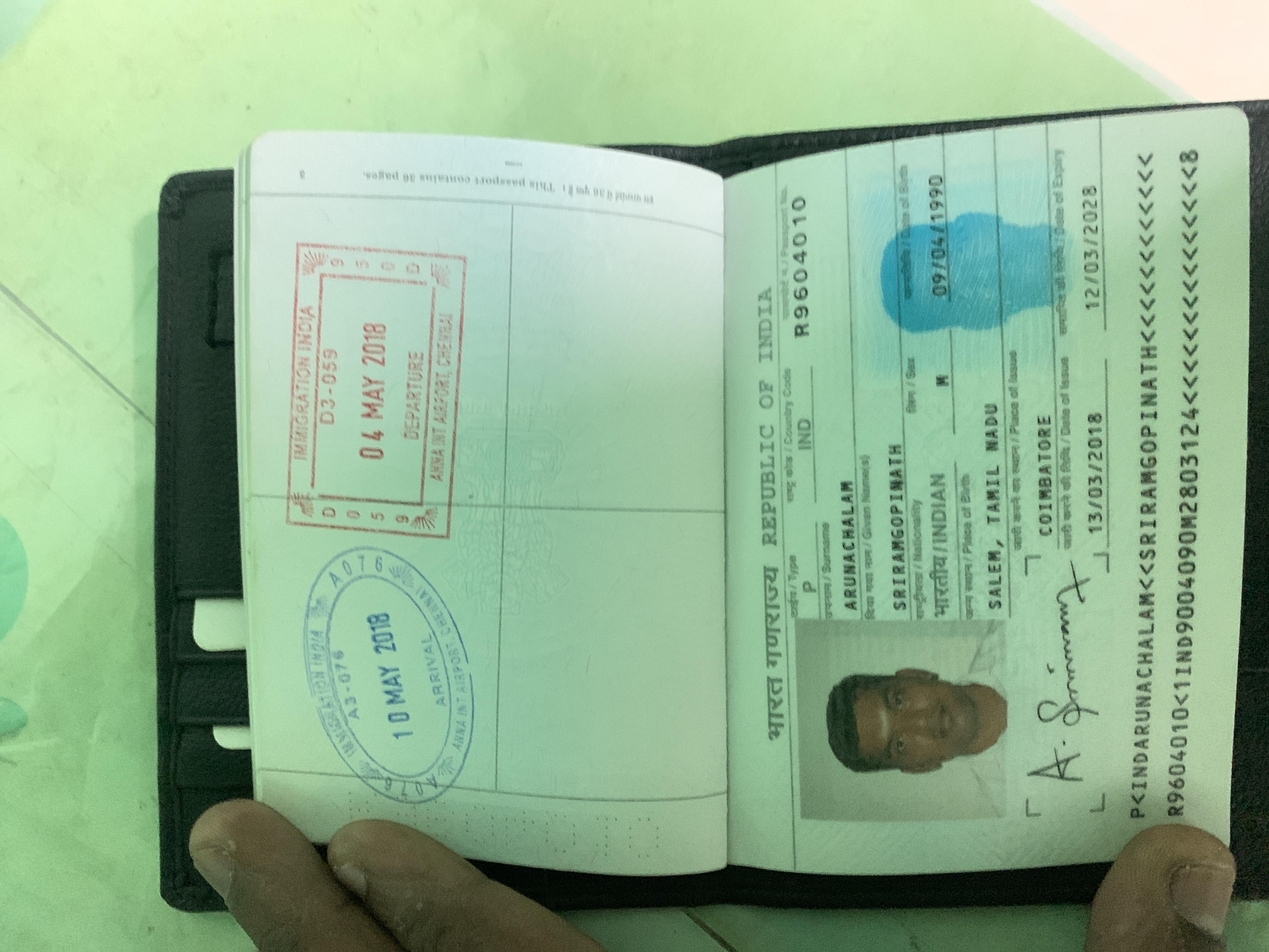DOB: (863, 690, 1050, 714)
Surname: (450, 627, 653, 644)
country_code: (659, 595, 720, 615)
date_of_expiry: (845, 804, 1043, 835)
date_of_issue: (546, 808, 761, 838)
details: (164, 839, 1086, 909)
name: (451, 665, 689, 681)
nationality: (448, 695, 651, 716)
passport_no: (805, 591, 1013, 610)
photo: (178, 607, 444, 757)
place_of_birth: (449, 735, 745, 754)
place_of_issue: (551, 771, 729, 792)
sex: (744, 697, 780, 724)
sign: (210, 767, 510, 825)
type: (467, 598, 501, 617)
